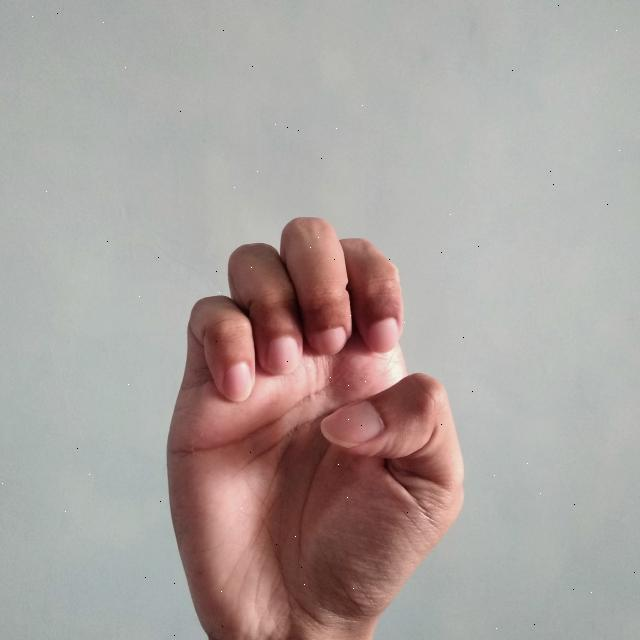E: (161, 212, 468, 633)
